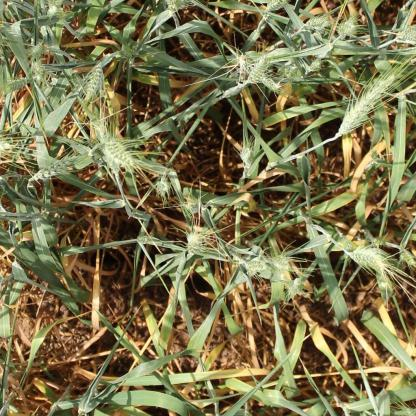whd: (334, 74, 396, 138), (30, 155, 78, 182), (93, 124, 118, 171), (350, 246, 387, 275), (84, 61, 103, 103), (104, 140, 132, 168), (247, 57, 268, 83), (268, 254, 292, 272), (30, 61, 46, 86), (396, 24, 416, 44), (185, 231, 202, 254), (239, 143, 254, 169), (5, 76, 28, 92), (260, 75, 283, 91), (338, 20, 356, 40), (183, 197, 203, 214), (287, 278, 304, 298), (156, 176, 172, 197), (243, 260, 268, 273), (400, 248, 416, 268), (306, 16, 330, 29), (337, 22, 358, 36), (164, 0, 188, 12), (264, 0, 288, 12), (0, 141, 16, 158), (284, 63, 298, 80), (30, 42, 45, 57), (46, 4, 60, 18), (343, 243, 353, 260), (310, 60, 322, 72), (136, 235, 152, 244), (70, 76, 84, 86), (402, 406, 416, 416), (123, 47, 135, 58), (238, 52, 245, 69), (314, 28, 325, 38), (378, 239, 387, 246), (371, 151, 377, 160)
